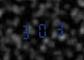three: (49, 19, 63, 38), (18, 22, 32, 40)
zero: (34, 20, 48, 39)
